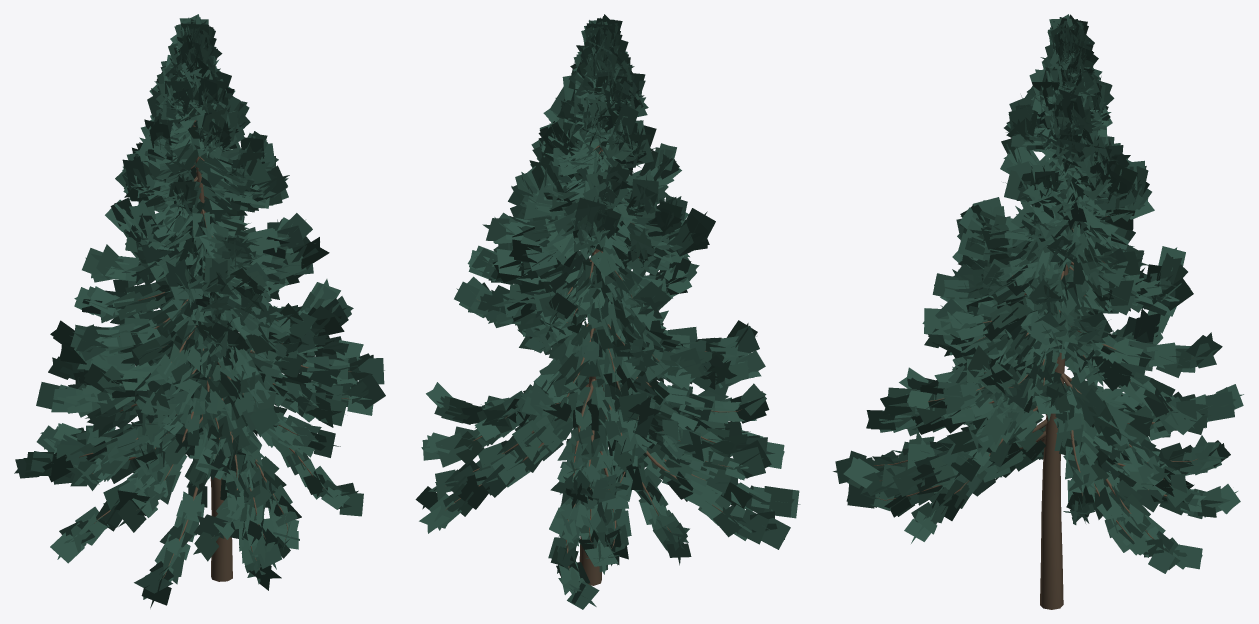
The model's file is tree_pine_tall.glb.
The picture shows the model from 3 angles, left to right: view 1: azimuth 30°, elevation 25°; view 2: azimuth 150°, elevation 25°; view 3: azimuth 270°, elevation 25°; orthographic projection. The views are drawn at different scales.
Visible parts, largest first — view 1: foliage, trunk; view 2: foliage, trunk; view 3: foliage, trunk.
Part boxes in pixels (<box>): foliage: <box>14,14,385,608</box>; trunk: <box>79,120,351,581</box>; foliage: <box>415,14,800,609</box>; trunk: <box>445,145,741,590</box>; foliage: <box>833,14,1243,573</box>; trunk: <box>874,216,1197,609</box>.
Bounding box in the file's own units: 15.95 × 26 × 16.8.
